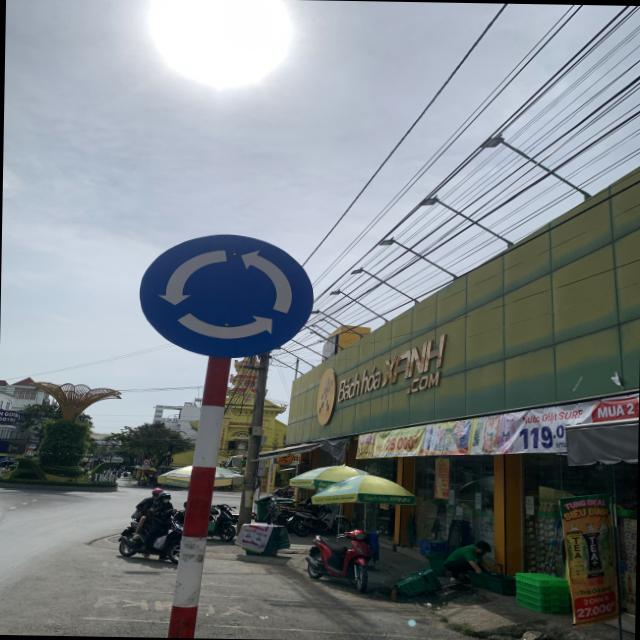Xe_Bus: (138, 231, 314, 361)
